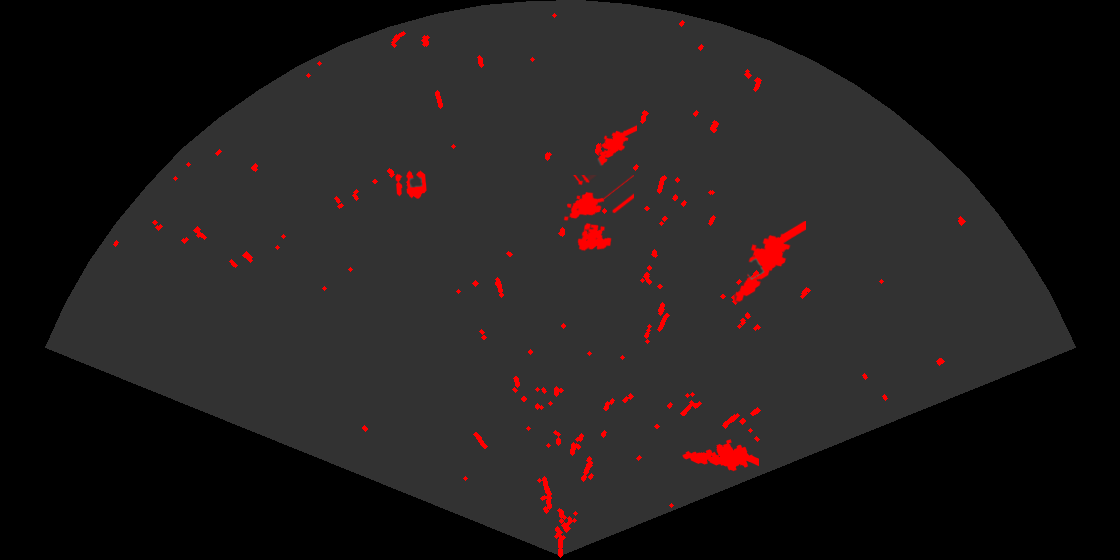ball: (394, 169, 428, 200)
cage: (562, 175, 634, 253)
frogman: (733, 221, 806, 304), (681, 438, 759, 473), (596, 123, 637, 167)
